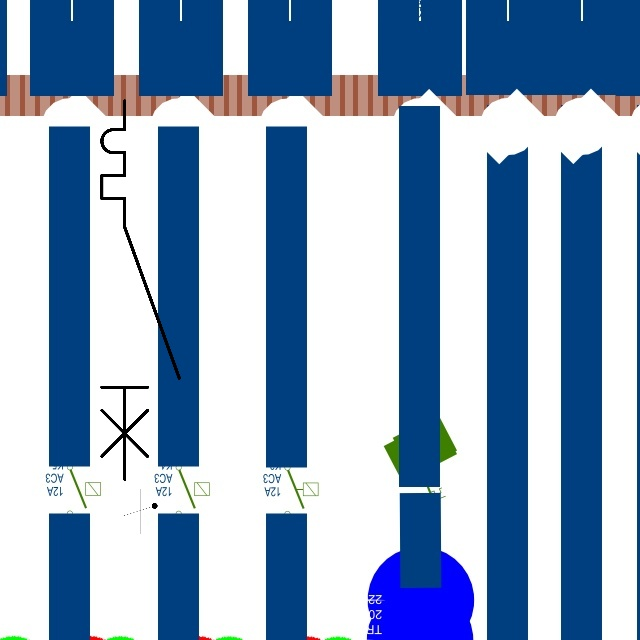interruptor_termomagnetico: (92, 91, 189, 489)
